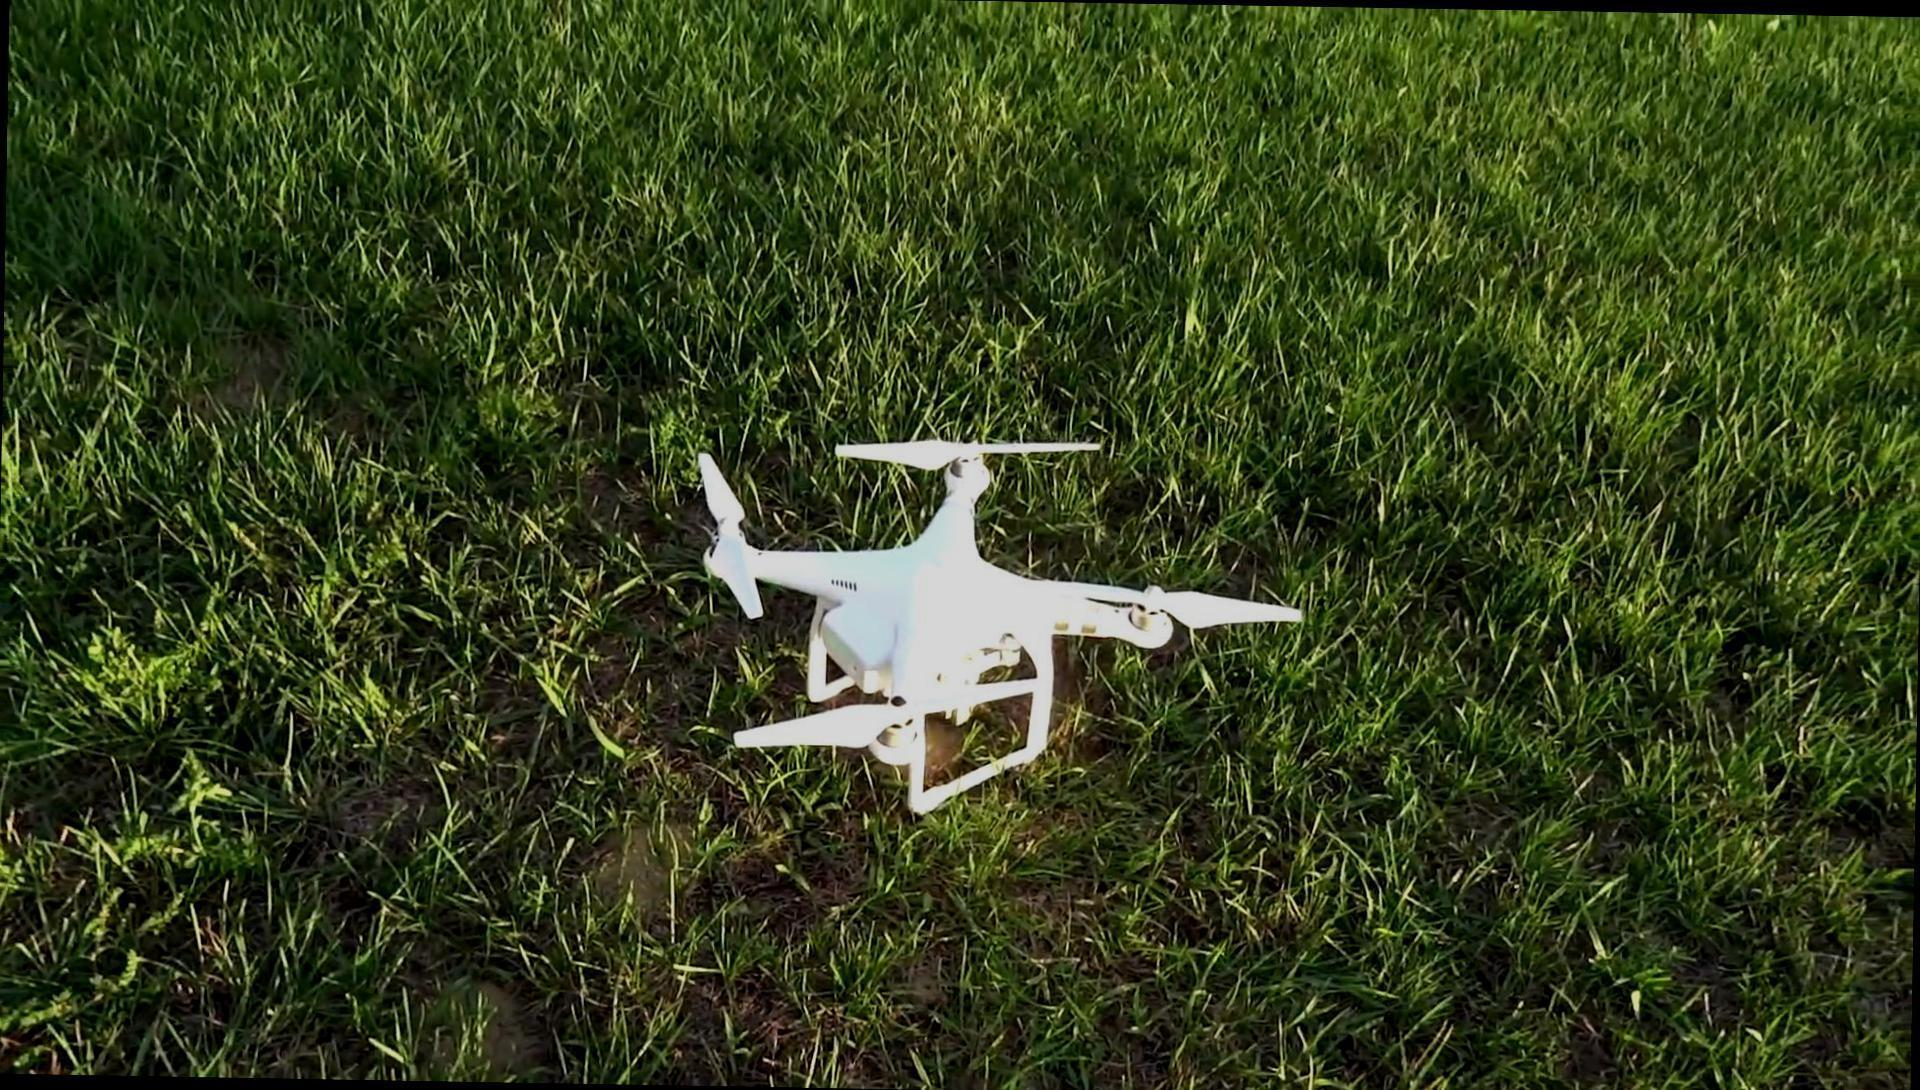drone: (694, 438, 1312, 818)
